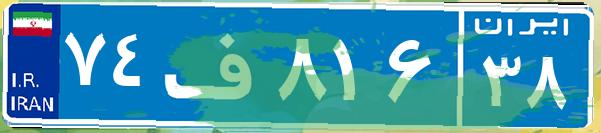1: (330, 28, 385, 110)
3: (475, 38, 525, 113)
4: (110, 28, 158, 105)
6: (385, 28, 445, 110)
7: (57, 26, 110, 107)
8: (273, 28, 330, 110), (525, 38, 570, 115)
ف: (158, 15, 273, 115)
